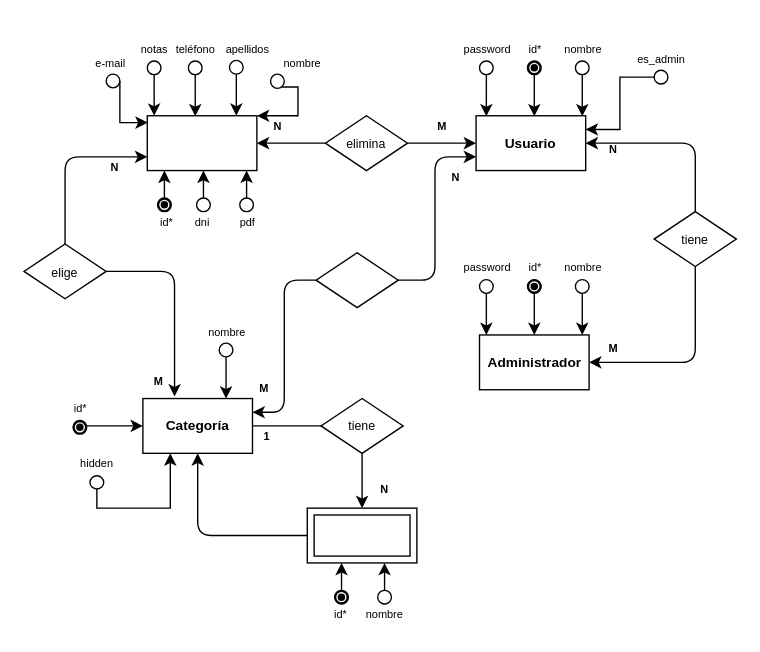
The diagram is 760 pixels wide and 652 high, and some of its shapes have lost their labels. Here are the shapes that lost their labels. From the top down, the centre of each, then its label:
At [201,142]: "Aspirante".
At [356,279]: "importa".
At [361,535]: "Subcategoría".
